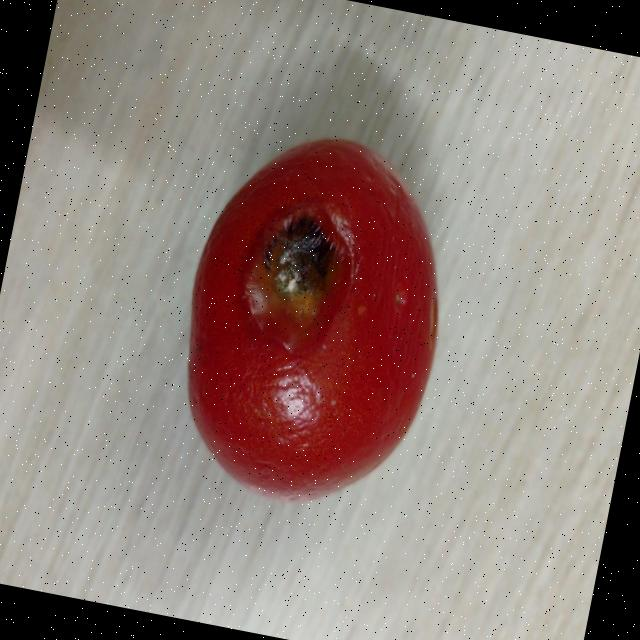Tomato: (151, 110, 476, 524)
